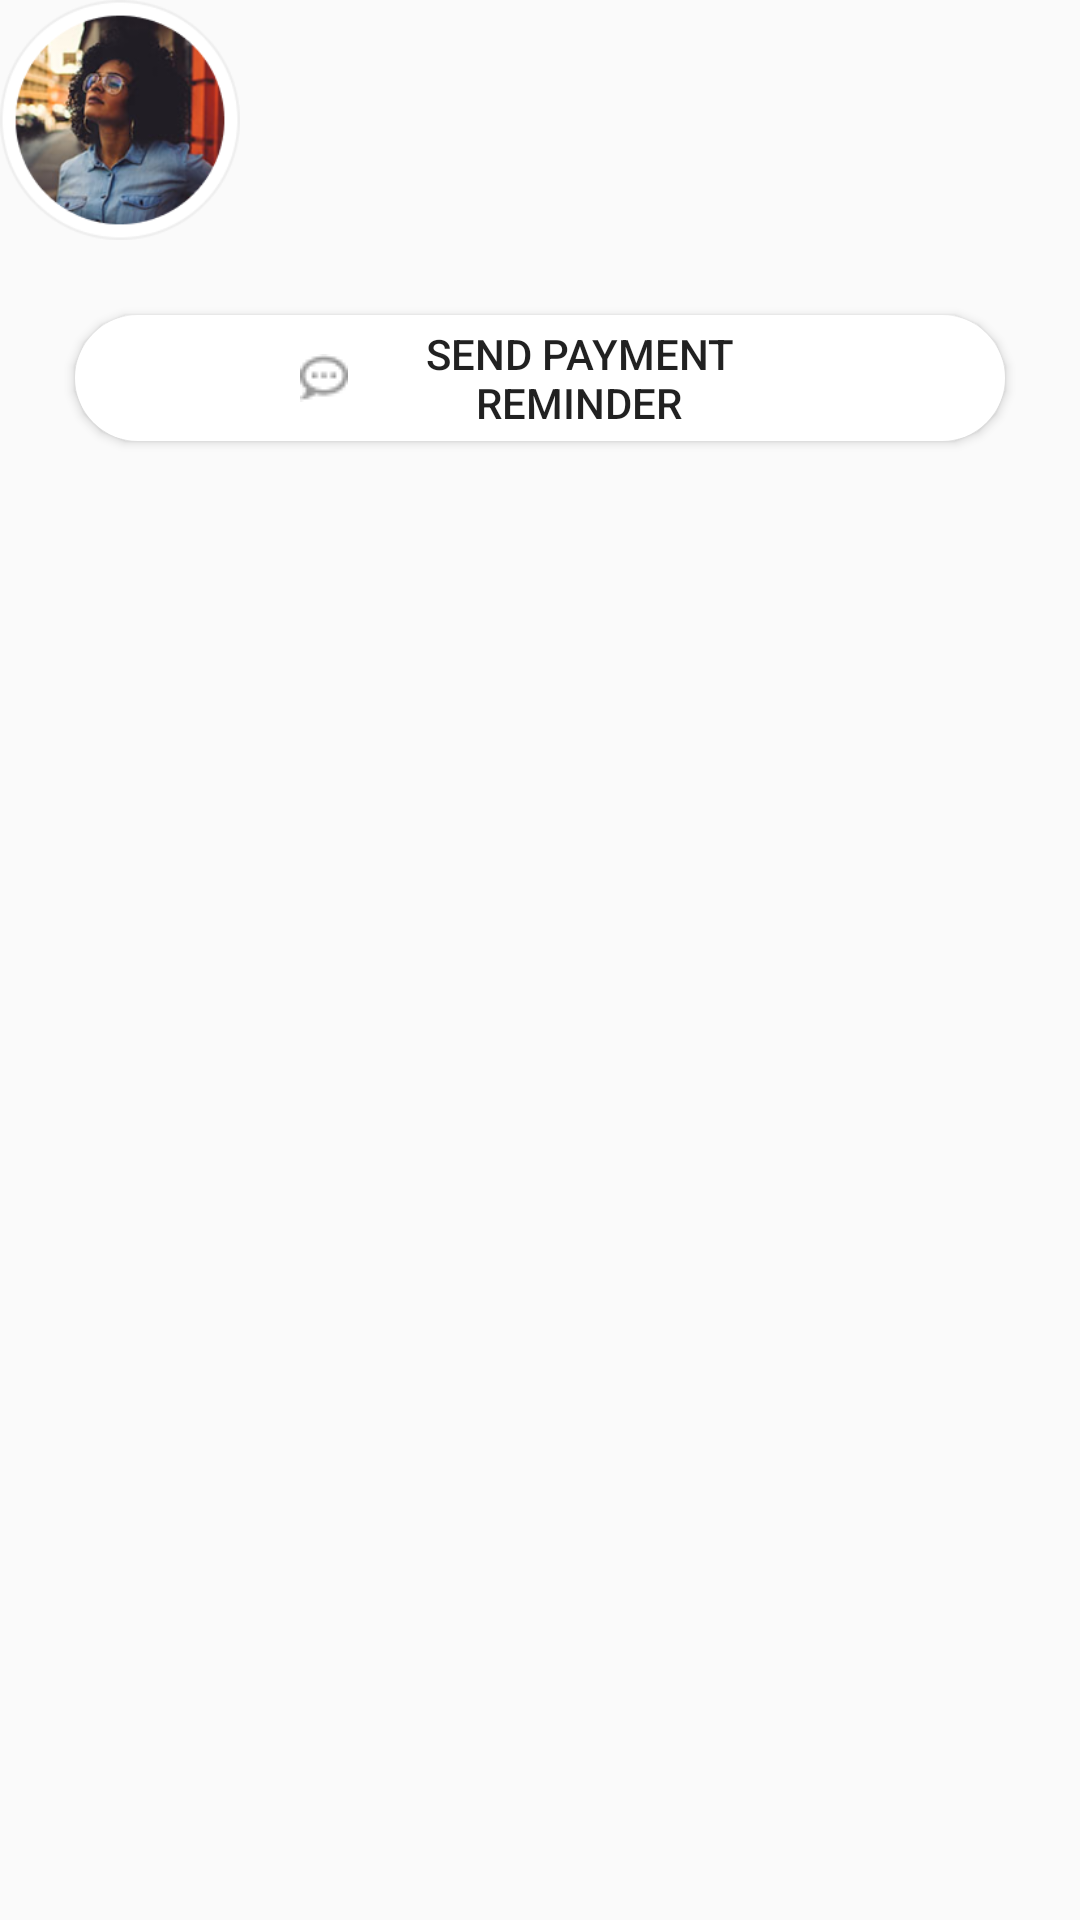

Named icons in this screenshot (1080px×1920px) and their bounding boxes, (x1, y1, x2, y2):
avatarimage: (15, 15, 225, 225)
